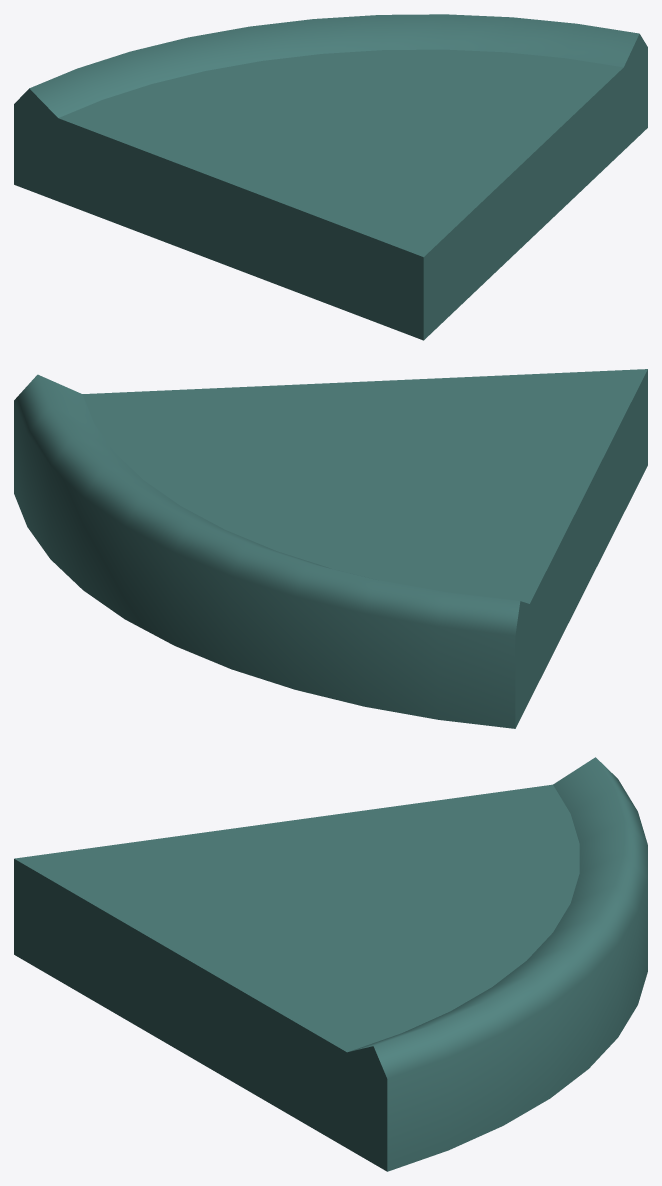
The picture shows the model from 3 angles, top to bottom: view 1: azimuth 30°, elevation 25°; view 2: azimuth 150°, elevation 25°; view 3: azimuth 270°, elevation 25°; orthographic projection. The views are drawn at different scales.
Visible parts, largest first — view 1: pCylinder6; view 2: pCylinder6; view 3: pCylinder6.
Boxes of the visible parts, box(x1,y1,x2,y2) form: pCylinder6: box(14, 14, 647, 340); pCylinder6: box(14, 369, 647, 728); pCylinder6: box(14, 757, 647, 1171).
Size of the model in its own units: 3.26 by 0.5956 by 2.91.
